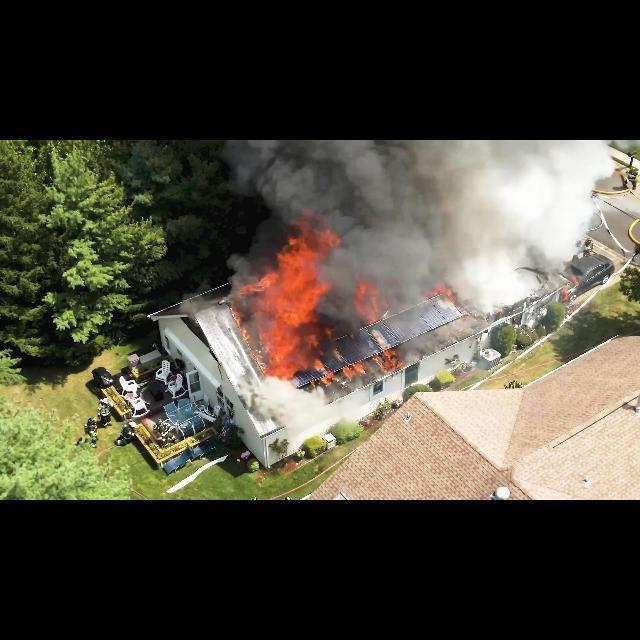Fire: (233, 219, 334, 369)
Smoke: (363, 140, 519, 292), (256, 140, 600, 198)
